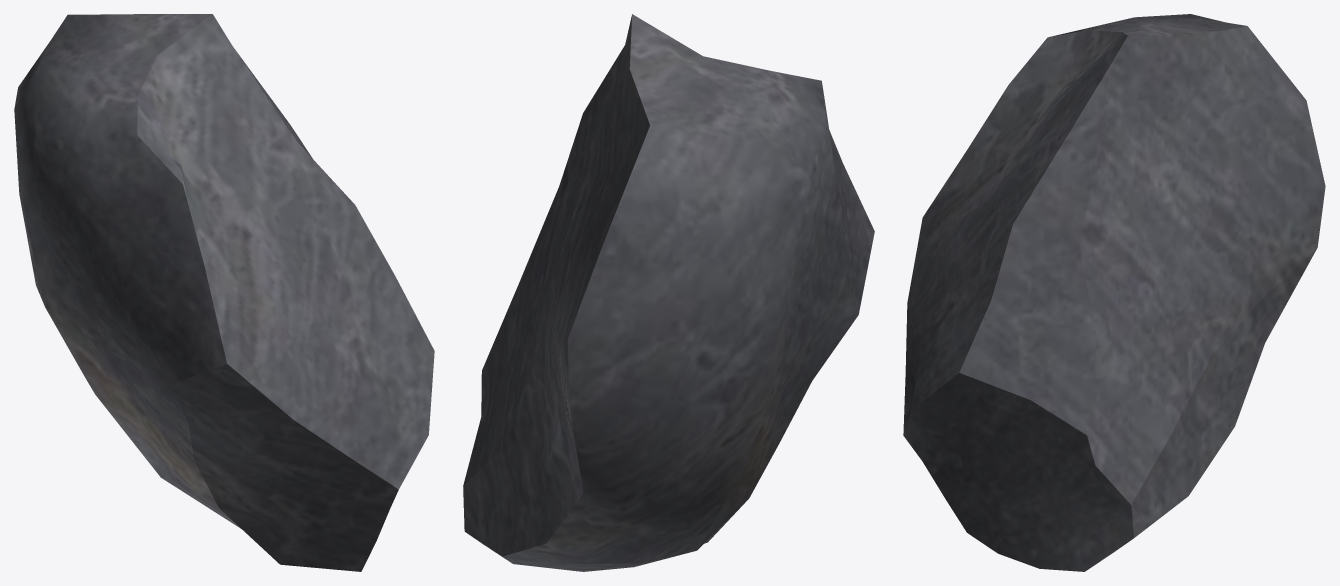
The model's file is wrock436.glb.
The picture shows the model from 3 angles, left to right: view 1: azimuth 30°, elevation 25°; view 2: azimuth 150°, elevation 25°; view 3: azimuth 270°, elevation 25°; orthographic projection. The views are drawn at different scales.
Parts seen in each view (by area): view 1: rock1_002_m_rocks_0; view 2: rock1_002_m_rocks_0; view 3: rock1_002_m_rocks_0.
Part boxes in pixels (left/top/right/bottom): rock1_002_m_rocks_0: left=14, top=14, right=434, bottom=571; rock1_002_m_rocks_0: left=463, top=14, right=874, bottom=571; rock1_002_m_rocks_0: left=903, top=14, right=1325, bottom=571.
Bounding box in the file's own units: 0.1569 × 0.2517 × 0.1979.
1 material, 1 textured.
